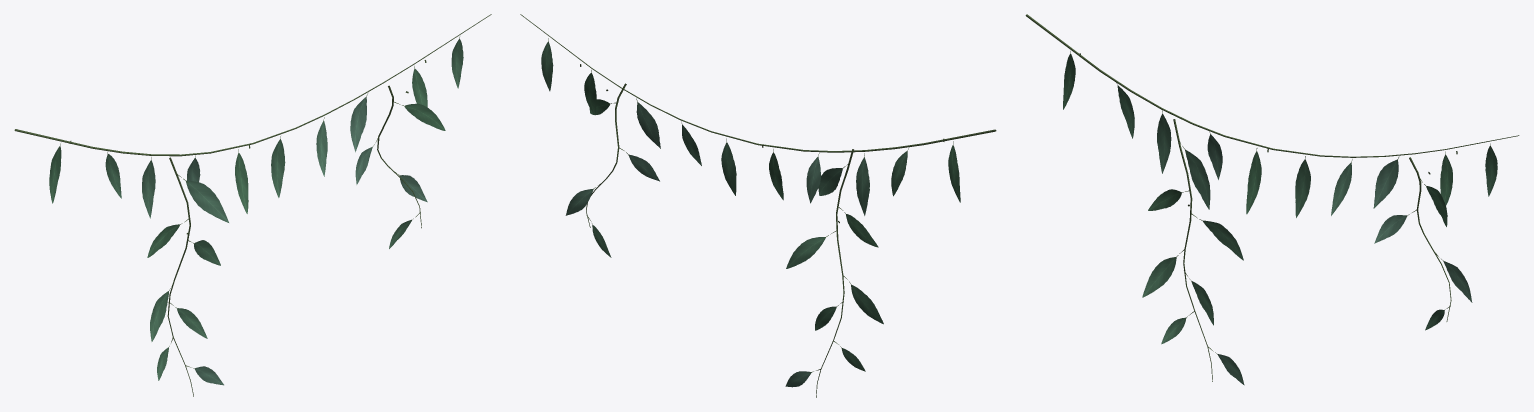
Rendered from Vine3.fbx.
3 renders of one model, left to right at view 1: azimuth 30°, elevation 25°; view 2: azimuth 150°, elevation 25°; view 3: azimuth 330°, elevation 25°, orthographic. The views are drawn at different scales.
Parts seen in each view (by area): view 1: Vine_C_BranchSwag; view 2: Vine_C_BranchSwag; view 3: Vine_C_BranchSwag.
Part boxes in pixels (box(x1,y1,x2,y2)): Vine_C_BranchSwag: box(14, 14, 491, 396); Vine_C_BranchSwag: box(520, 14, 996, 397); Vine_C_BranchSwag: box(1025, 14, 1519, 385).
Size of the model in its own units: 125 by 80.2 by 14.4.
